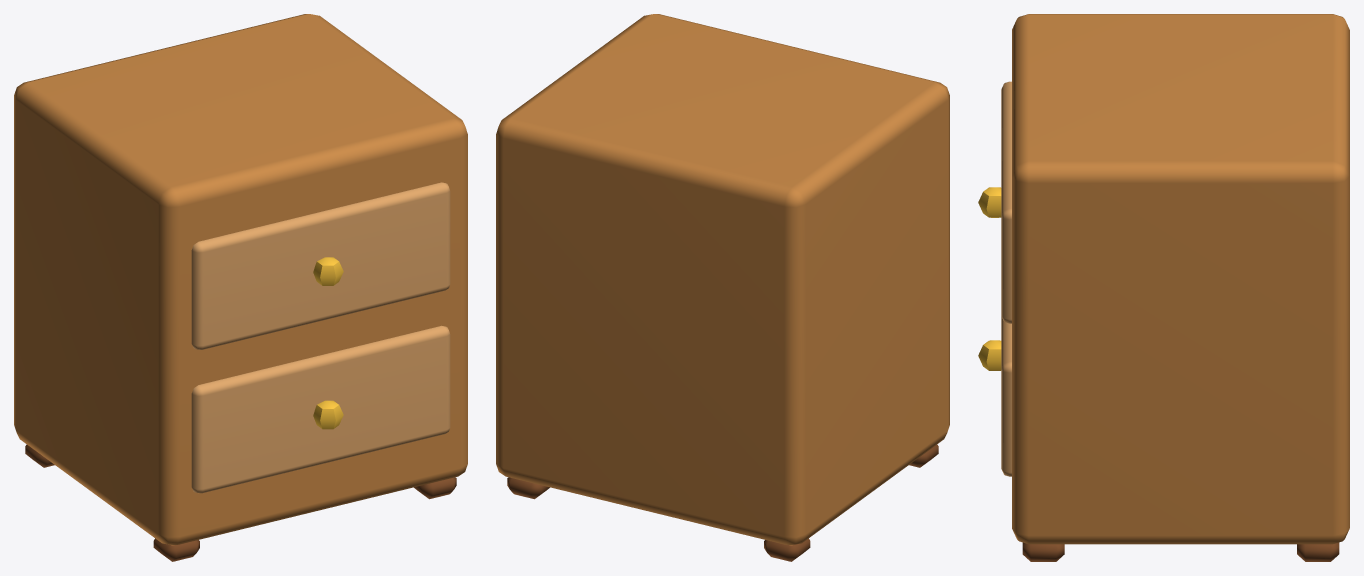
File: Nightstand.fbx
3 renders of one model, left to right at view 1: azimuth 30°, elevation 25°; view 2: azimuth 150°, elevation 25°; view 3: azimuth 270°, elevation 25°, orthographic. The views are drawn at different scales.
Parts seen in each view (by area): view 1: Nightstand; view 2: Nightstand; view 3: Nightstand.
Part boxes in pixels (x1=…): Nightstand: x1=14, y1=14, x2=467, y2=561; Nightstand: x1=496, y1=14, x2=949, y2=561; Nightstand: x1=978, y1=14, x2=1349, y2=561.
Bounding box in the file's own units: 1.8 × 2.1 × 1.76.
1 material, 1 textured.
